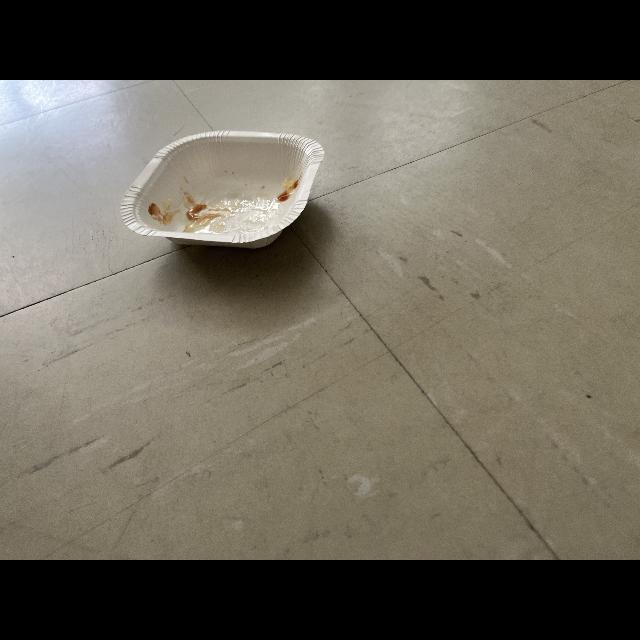cardboard_bowl: (117, 119, 325, 263)
